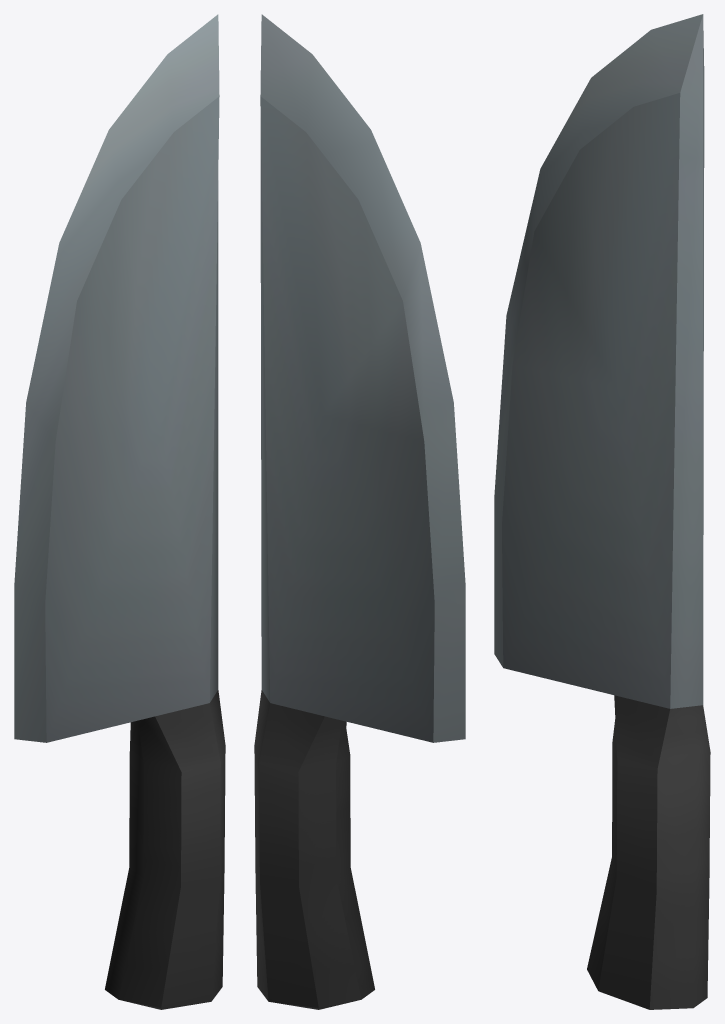
File: kkr.knife.glb
3 renders of one model, left to right at view 1: azimuth 30°, elevation 25°; view 2: azimuth 150°, elevation 25°; view 3: azimuth 330°, elevation 25°, orthographic. The views are drawn at different scales.
Visible parts, largest first — view 1: knife; view 2: knife; view 3: knife.
Boxes of the visible parts, left/top/right/bottom form: knife: left=14, top=14, right=225, bottom=1009; knife: left=254, top=14, right=465, bottom=1009; knife: left=494, top=14, right=710, bottom=1009.
Size of the model in its own units: 0.0689 by 0.317 by 0.0276.
Materials: 1 (1 with a texture image).
